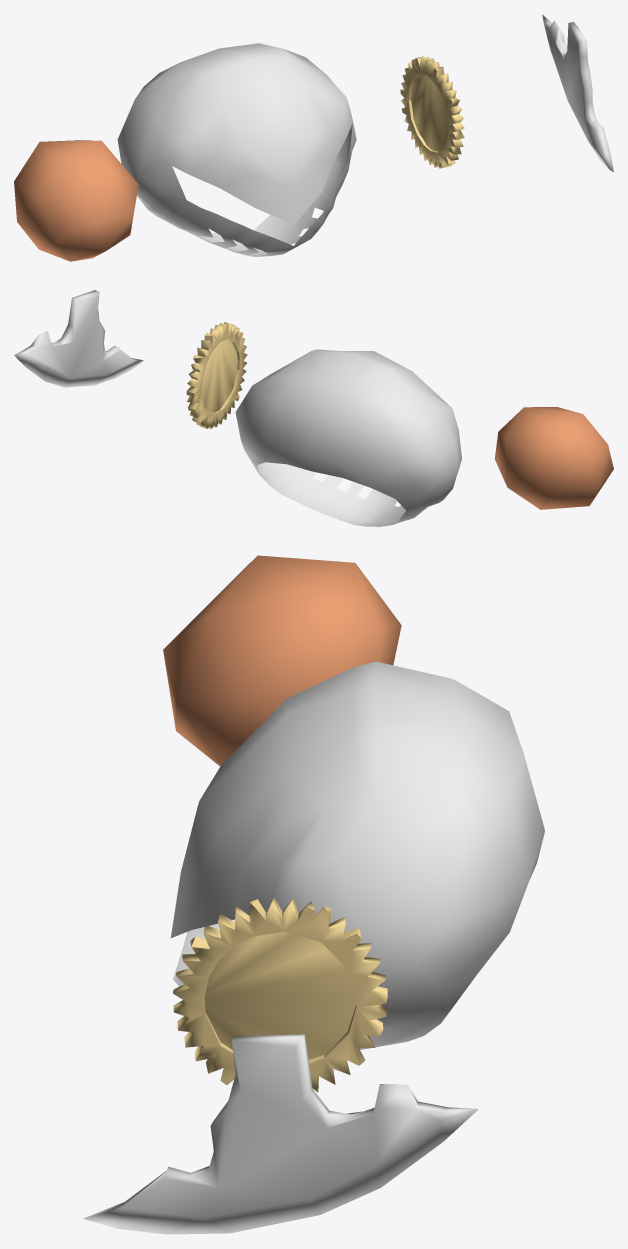
The model's file is EnemyExplotionDetail.fbx.
The picture shows the model from 3 angles, top to bottom: view 1: azimuth 30°, elevation 25°; view 2: azimuth 150°, elevation 25°; view 3: azimuth 270°, elevation 25°; orthographic projection. The views are drawn at different scales.
Visible parts, largest first — view 1: Plane.002, Sphere.001, Circle.033, AXE_defaultPolygonShader_0.001; view 2: Plane.002, Sphere.001, AXE_defaultPolygonShader_0.001, Circle.033; view 3: Plane.002, AXE_defaultPolygonShader_0.001, Sphere.001, Circle.033.
Boxes of the visible parts, box(x1,y1,x2,y2) form: Plane.002: box(117, 43, 356, 256); Sphere.001: box(14, 140, 138, 261); Circle.033: box(400, 56, 464, 168); AXE_defaultPolygonShader_0.001: box(542, 14, 613, 172); Plane.002: box(235, 349, 461, 526); Sphere.001: box(494, 407, 613, 509); AXE_defaultPolygonShader_0.001: box(14, 290, 143, 387); Circle.033: box(186, 322, 247, 428); Plane.002: box(171, 661, 544, 1049); AXE_defaultPolygonShader_0.001: box(83, 1034, 478, 1234); Sphere.001: box(163, 555, 401, 766); Circle.033: box(173, 897, 387, 1092).
Size of the model in its own units: 767 by 239 by 283.
Materials: 3 (1 with a texture image).
